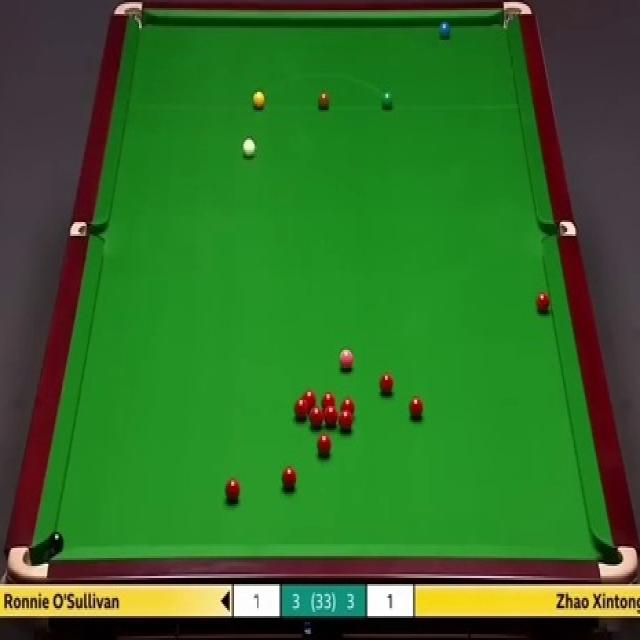pocket: (597, 543, 639, 585), (6, 542, 49, 578), (500, 0, 532, 32), (111, 0, 145, 29), (70, 221, 106, 237), (541, 220, 576, 235)
